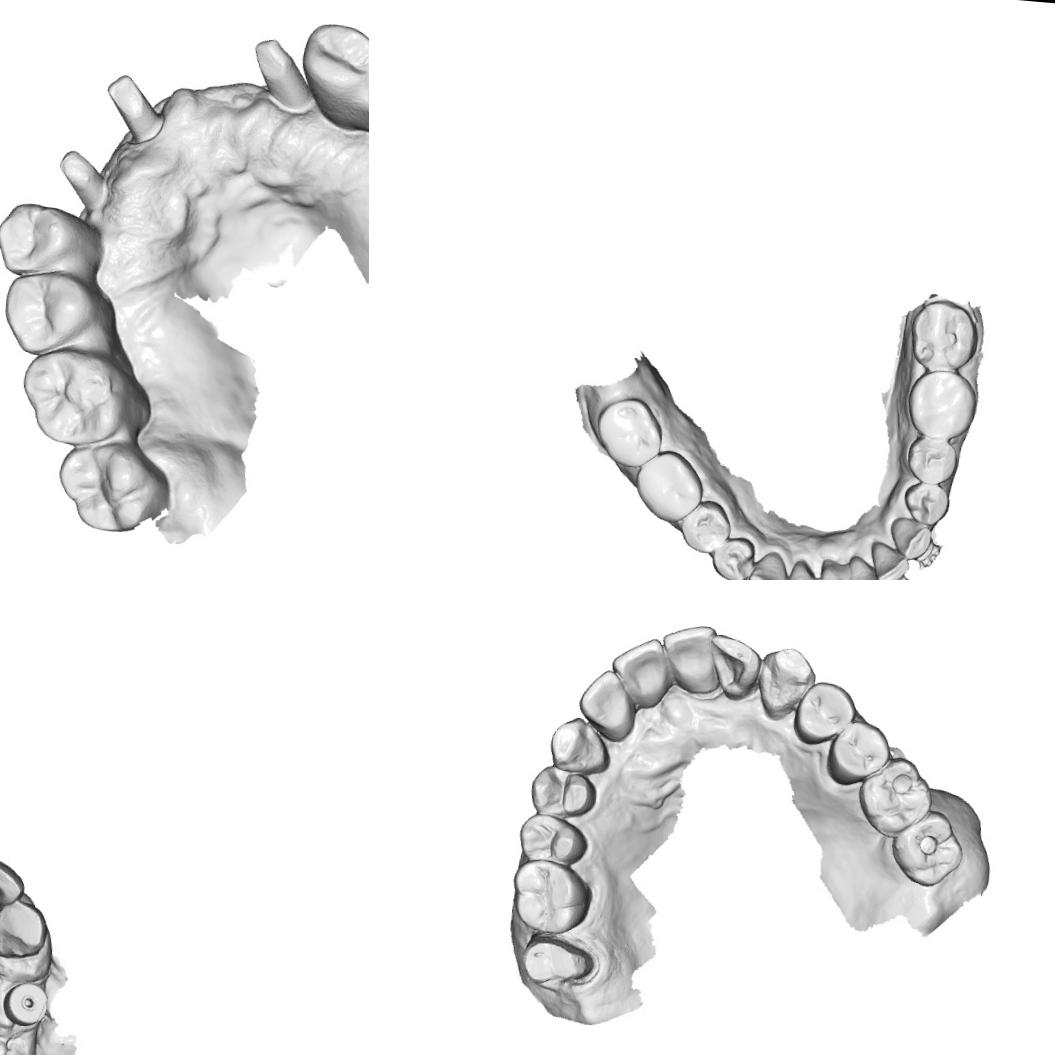abutment: (96, 70, 172, 150), (244, 36, 316, 118), (53, 144, 118, 215)
canine: (752, 642, 817, 724), (546, 712, 614, 774), (0, 897, 49, 967), (886, 514, 936, 563), (745, 547, 791, 580)
crown: (518, 931, 604, 992)
implant: (2, 976, 52, 1026)
incisor: (606, 633, 672, 710), (574, 666, 640, 742), (658, 618, 721, 696), (702, 631, 763, 704), (865, 538, 911, 580), (0, 857, 24, 911), (842, 551, 884, 580), (780, 556, 823, 580), (811, 560, 853, 580)
molar: (15, 344, 141, 450), (50, 438, 163, 537), (506, 854, 596, 938), (854, 752, 936, 842), (888, 805, 966, 890), (630, 446, 708, 526), (592, 390, 668, 470), (905, 297, 980, 374), (904, 367, 980, 442)
premolar: (0, 266, 100, 359), (0, 197, 89, 280), (294, 18, 369, 113), (821, 718, 893, 789), (792, 678, 860, 750), (525, 761, 598, 822), (516, 810, 590, 867), (676, 496, 733, 557), (903, 435, 960, 485), (900, 480, 952, 528), (707, 532, 757, 580)
